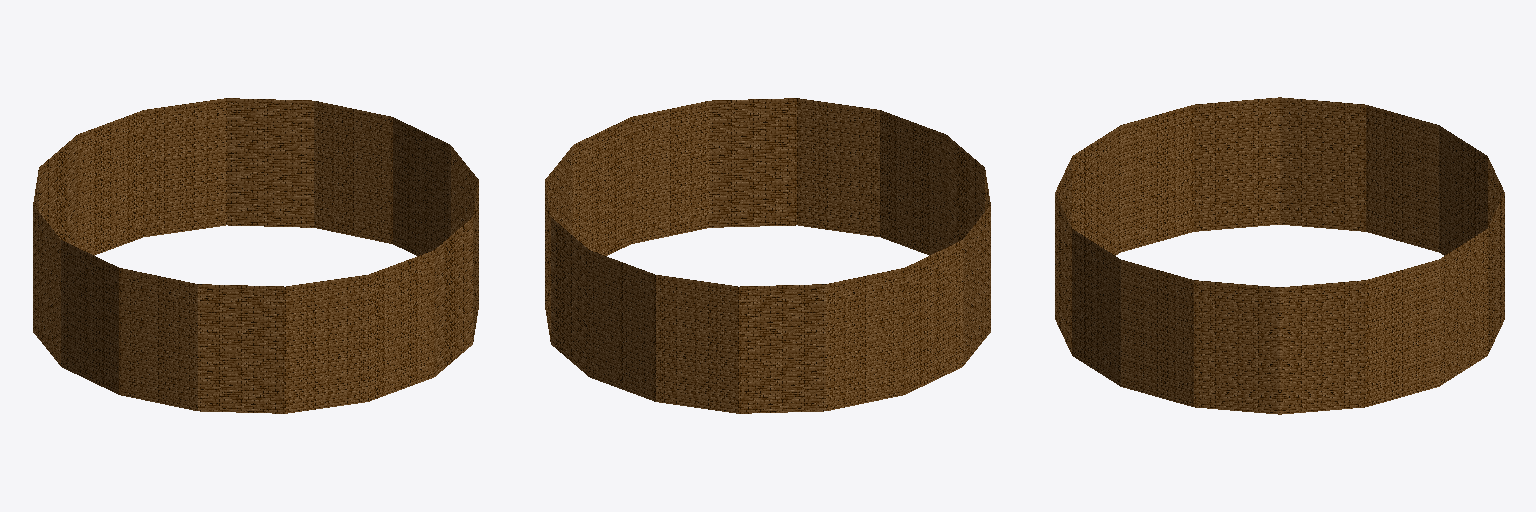
The picture shows the model from 3 angles: view 1: azimuth 30°, elevation 25°; view 2: azimuth 150°, elevation 25°; view 3: azimuth 270°, elevation 25°; orthographic projection.
Parts seen in each view (by area): view 1: 平面.003; view 2: 平面.003; view 3: 平面.003.
Part boxes in pixels (x1,y1,x2,y2): 平面.003: (33, 98, 478, 413); 平面.003: (545, 98, 990, 413); 平面.003: (1055, 97, 1504, 414).
Size of the model in its own units: 32 by 10 by 32.
Materials: 1 (1 with a texture image).